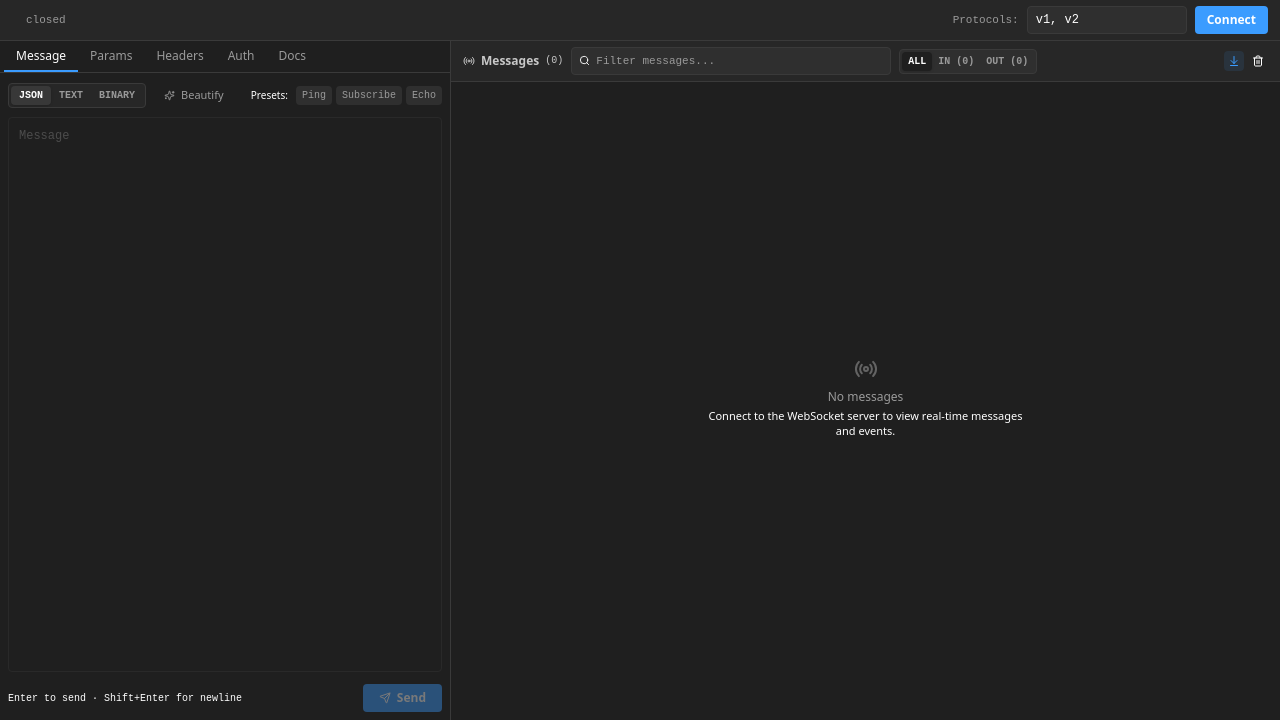
Scenario: WsPanel › loads preset snippet into message composer
The image size is (1280, 720).
Click the button "Ping".
click(314, 95)  # box [296,86,332,104]
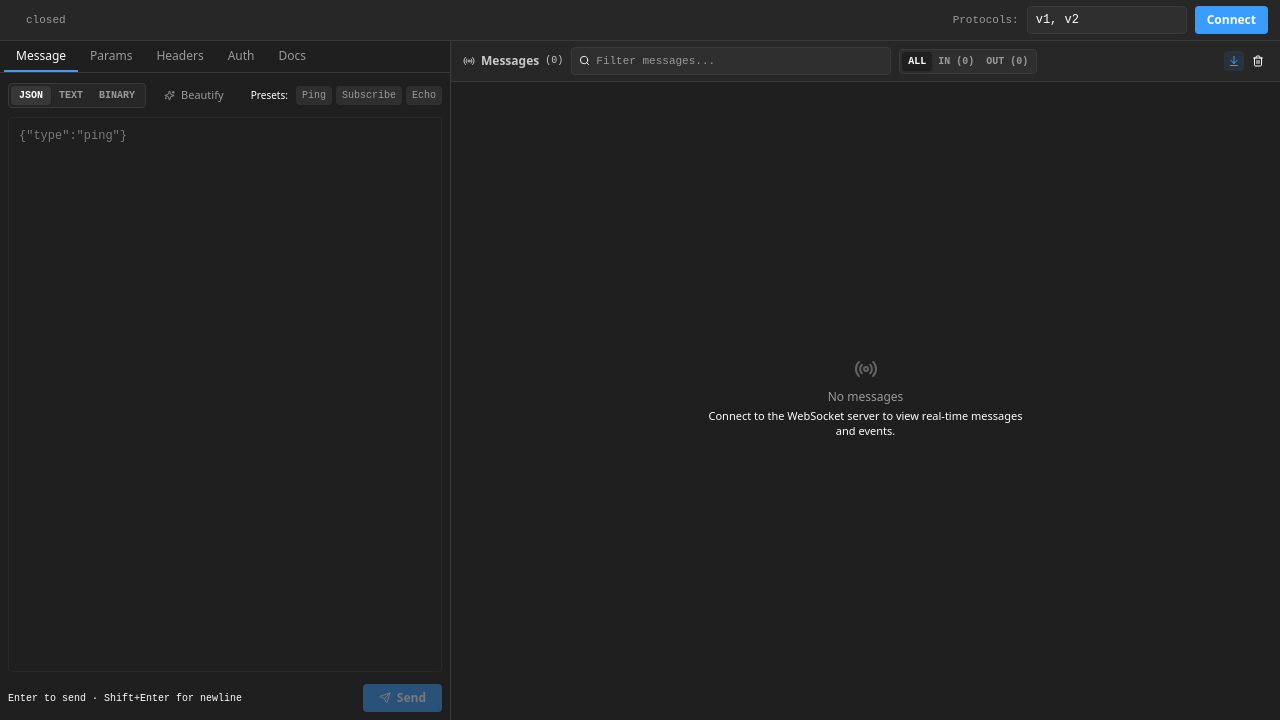
Expected: the text box with placeholder "Message" holds "{\"type\":\"ping\"}", [8,117,442,672]
